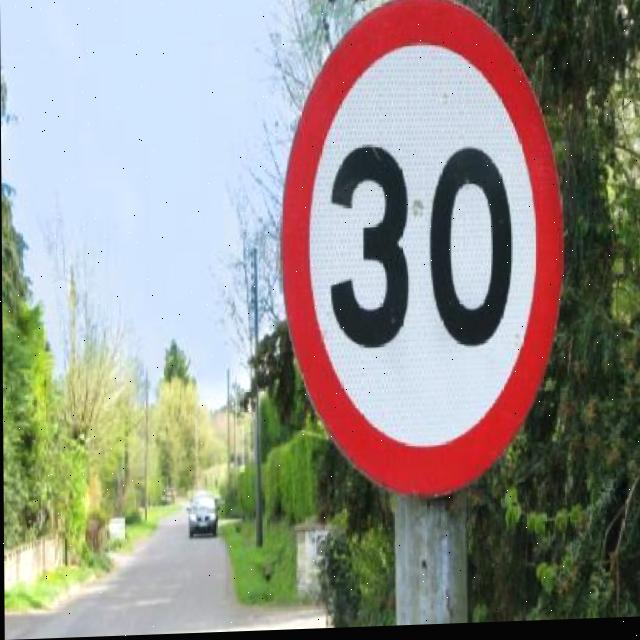Speed limit 30: (275, 1, 570, 508)
